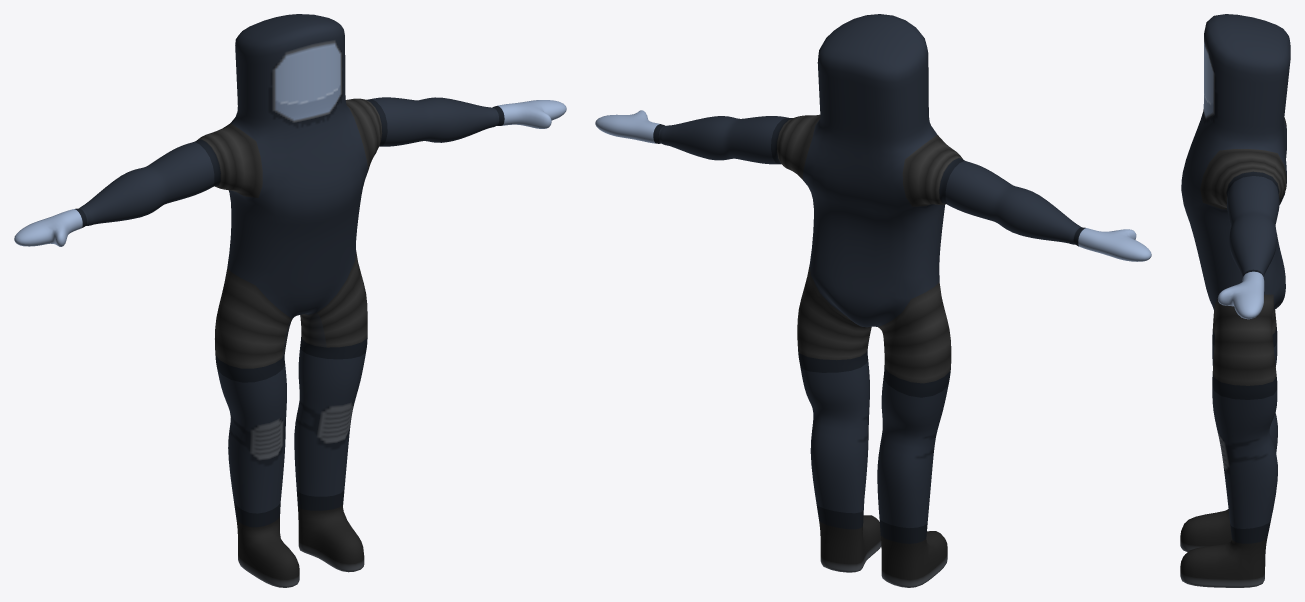
Rendered from FactWorker.fbx.
The picture shows the model from 3 angles, left to right: view 1: azimuth 30°, elevation 25°; view 2: azimuth 150°, elevation 25°; view 3: azimuth 270°, elevation 25°; orthographic projection.
Visible parts, largest first — view 1: Cube; view 2: Cube; view 3: Cube.
Boxes of the visible parts, x1,y1,x2,y2 form: Cube: (14, 14, 566, 587); Cube: (595, 14, 1151, 587); Cube: (1180, 14, 1290, 587).
Size of the model in its own units: 981 by 924 by 170.
